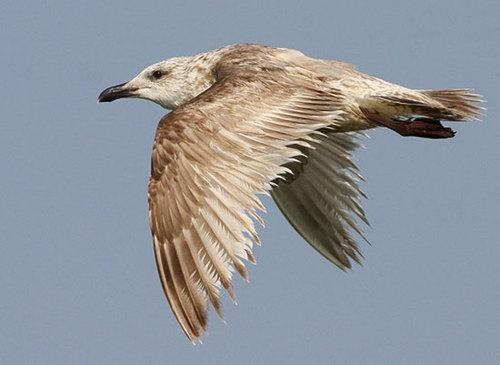bird: (98, 40, 484, 339)
